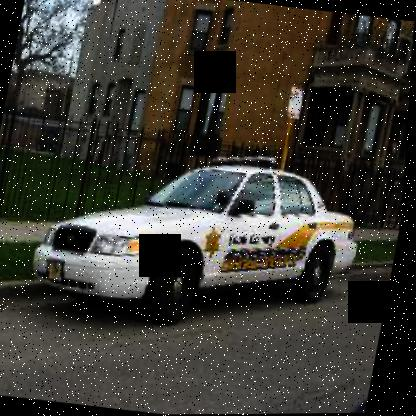emergency: (8, 127, 397, 389)
